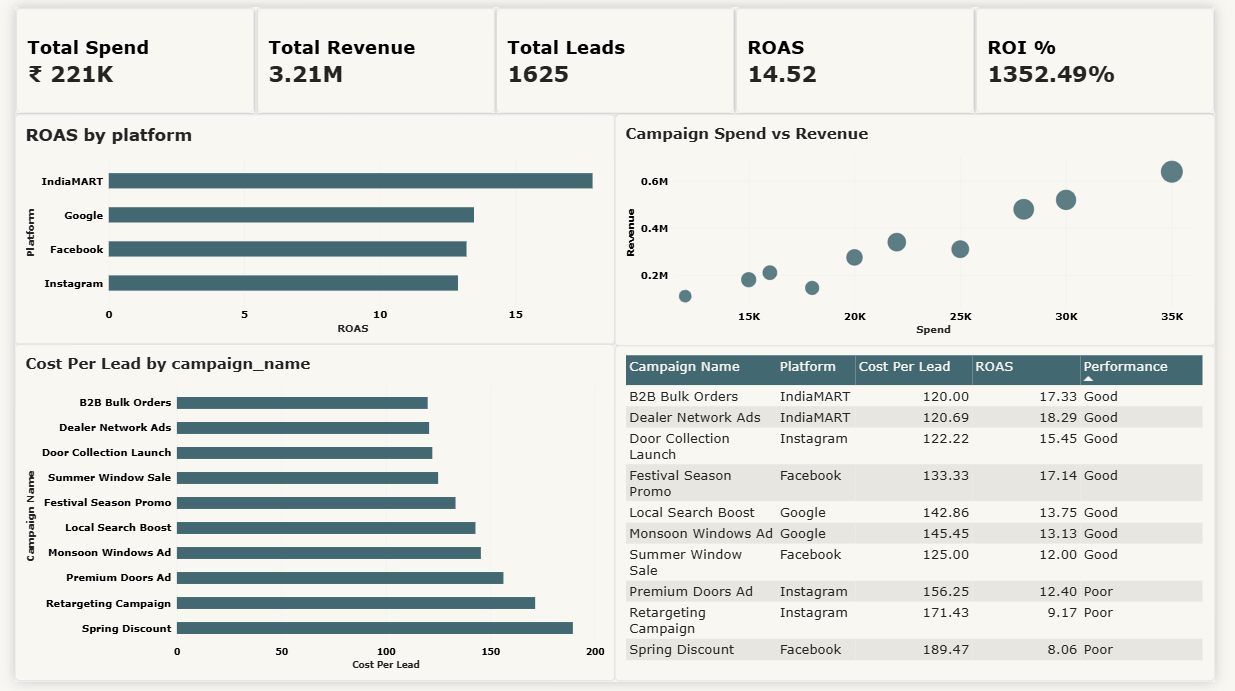

The dashboard page shown, as its layout file describes it:
{"tool":"powerbi","page":{"name":"Executive Overview","canvas":[1920,1080],"ordinal":0},"visuals":[{"type":"cardVisual","fields":{"Data":["campaigns.Total Spend"]},"box":[0,0,385,172.5],"z":0},{"type":"cardVisual","fields":{"Data":["campaigns.Total Revenue"]},"box":[385,0,385,172.5],"z":1000},{"type":"cardVisual","fields":{"Data":["campaigns.Total Leads"]},"box":[767.5,0,385,172.5],"z":2000},{"type":"cardVisual","fields":{"Data":["campaigns.ROAS"]},"box":[1152.5,0,385,172.5],"z":3000},{"type":"cardVisual","fields":{"Data":["campaigns.ROI %"]},"box":[1535,0,385,172.5],"z":4000},{"type":"barChart","fields":{"Category":["campaigns.platform"],"Y":["campaigns.ROAS"]},"box":[0,172.5,960,367.5],"z":5000},{"type":"barChart","fields":{"Category":["campaigns.campaign_name"],"Y":["campaigns.Cost Per Lead"]},"box":[0,540,960,537.5],"z":6000},{"type":"scatterChart","title":"Campaign Spend vs Revenue","fields":{"Size":["campaigns.Total Conversions"],"X":["campaigns.spend"],"Y":["campaigns.revenue"]},"box":[960,172,960,370],"z":7000},{"type":"tableEx","fields":{"Values":["campaigns.campaign_name","campaigns.platform","campaigns.Cost Per Lead","campaigns.ROAS","campaigns.Performance"]},"box":[960,542,960,536],"z":8000}]}

Visuals, with their boxes in screenshot pixels (x1, y1, x2, y2), scaled from the page's 1920x1080 canvas onto the 1235x691 screenshot:
cardVisual - campaigns.Total Spend: (x1=0, y1=0, x2=248, y2=110)
cardVisual - campaigns.Total Revenue: (x1=248, y1=0, x2=495, y2=110)
cardVisual - campaigns.Total Leads: (x1=494, y1=0, x2=741, y2=110)
cardVisual - campaigns.ROAS: (x1=741, y1=0, x2=989, y2=110)
cardVisual - campaigns.ROI %: (x1=987, y1=0, x2=1234, y2=110)
barChart - campaigns.platform x campaigns.ROAS: (x1=0, y1=110, x2=618, y2=346)
barChart - campaigns.campaign_name x campaigns.Cost Per Lead: (x1=0, y1=346, x2=618, y2=689)
"Campaign Spend vs Revenue" scatterChart: (x1=618, y1=110, x2=1234, y2=347)
tableEx - campaigns.campaign_name x campaigns.platform: (x1=618, y1=347, x2=1234, y2=690)
